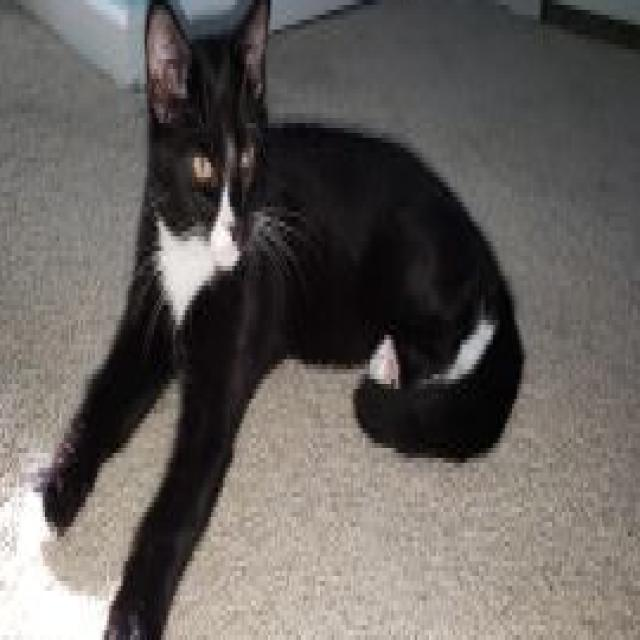Tuxedo: (17, 0, 526, 640)
